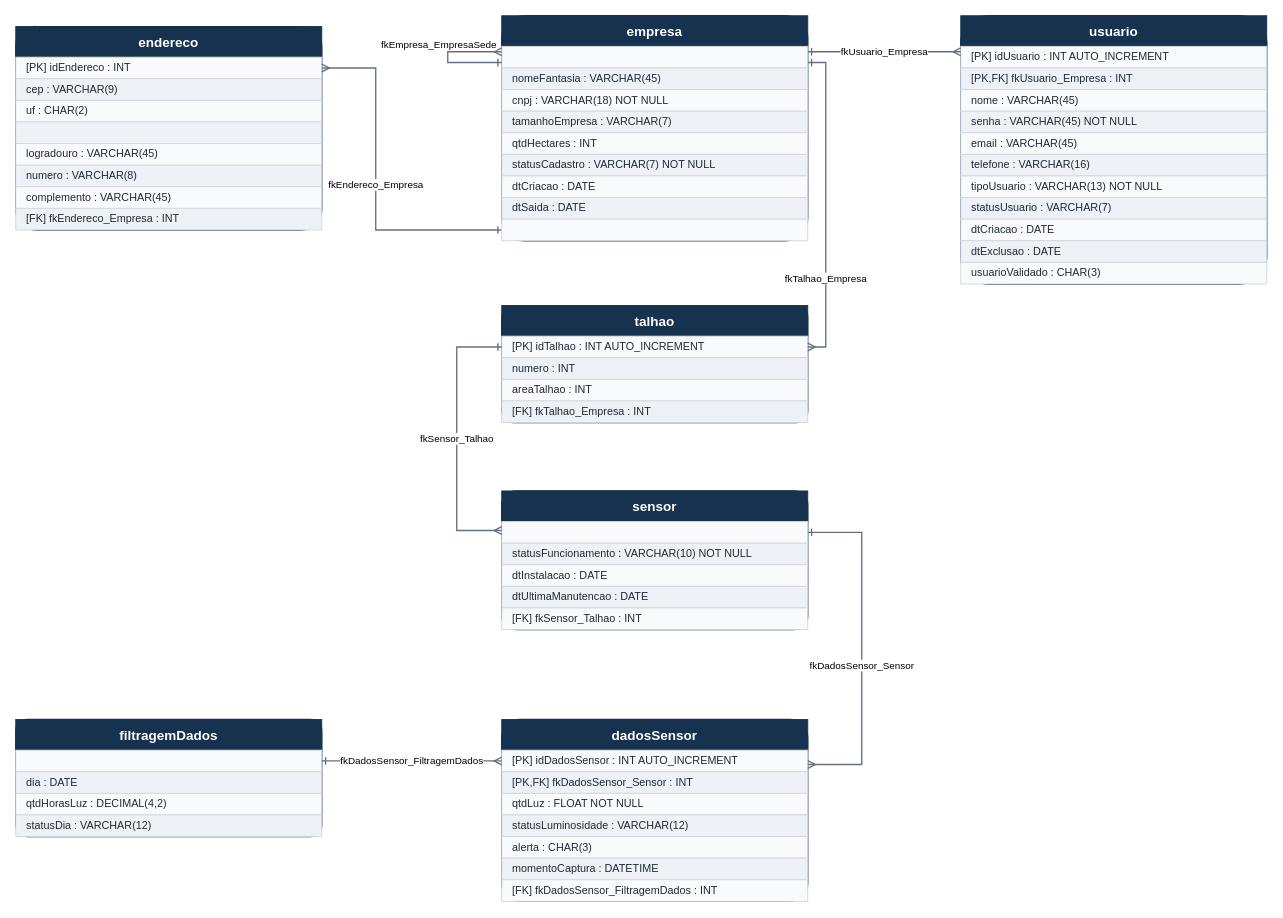
This 1283x918 diagram has some shape labels left out. The shapes that lost their labels are listed below. From the top down, each one's centre as x and y in pixels, then its label:
At (654,56): "[PK] idEmpresa : INT".
At (168,132): "cidade : VARCHAR(45)".
At (654,229): "[FK] fkEmpresa_EmpresaSede : INT".
At (654,532): "[PK] idSensor : INT AUTO_INCREMENT".
At (168,760): "[PK] idFiltragemDados : INT AUTO_INCREMENT".
